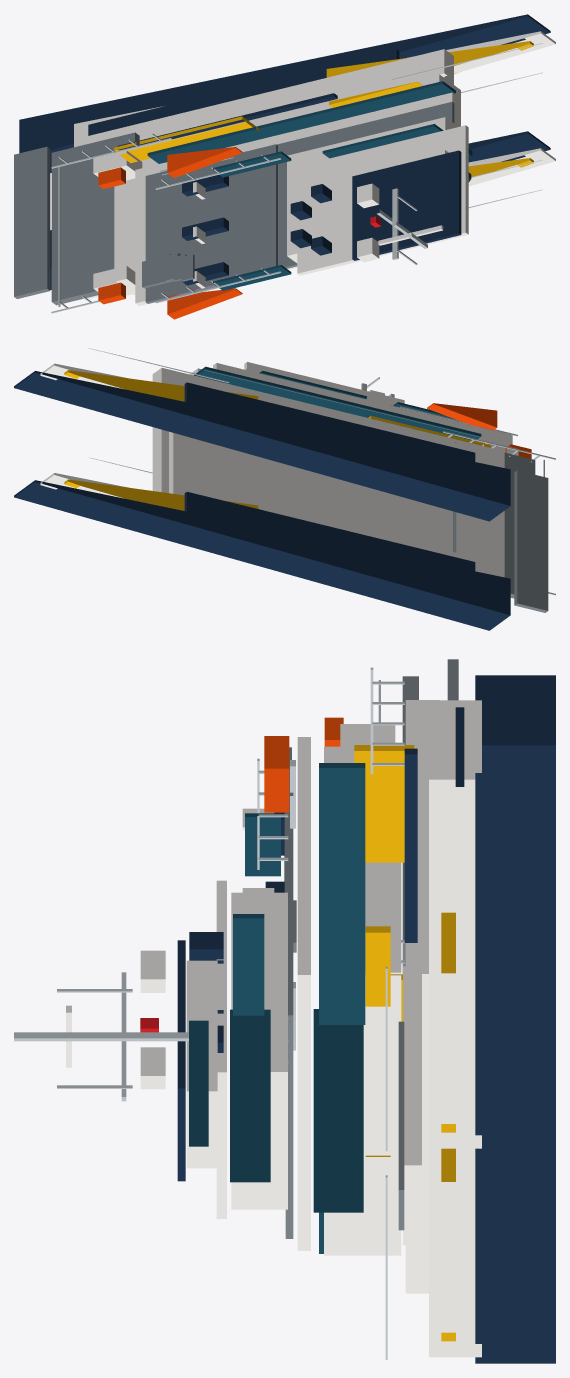
File: boat.gltf
3 views of the same model, one above another, from view 1: azimuth 30°, elevation 25°; view 2: azimuth 150°, elevation 25°; view 3: azimuth 270°, elevation 25° (orthographic). The views are drawn at different scales.
Parts seen in each view (by area): view 1: upper aft open deck, deep individual catamaran hull (×2), aft working deck, bridge roof, hardtop, central bridge deck, stern platform, long navy window band, saloon roof, upper deck floor, main saloon, navy waterline stripe (+18 smaller); view 2: deep individual catamaran hull (×2), central bridge deck, navy waterline stripe (×2), stern platform, long navy window band, gold bow blade (×2), white individual bow shoulder (×2), saloon roof, aft working deck, rescue boat, bridge roof, main saloon (+2 smaller); view 3: deep individual catamaran hull (×2), white individual bow shoulder (×2), main saloon, long navy window band, front windshield, upper deckhouse, saloon roof, central bridge deck, bridge front glass, forward cross deck, large gold flank, upper control cabin (+16 smaller).
Boxes of the visible parts, x1,y1,x2,y2 form: upper aft open deck: (145,144,277,303); deep individual catamaran hull (×2): (19,14,550,289); aft working deck: (51,132,139,305); bridge roof: (297,125,468,275); hardtop: (352,150,461,260); central bridge deck: (77,49,453,298); stern platform: (14,146,50,298); long navy window band: (147,81,455,163); saloon roof: (135,92,455,305); upper deck floor: (196,102,454,290); main saloon: (114,74,460,295); navy waterline stripe: (88,49,399,135); deep individual catamaran hull (×2): (14,371,510,630); central bridge deck: (152,368,504,577); navy waterline stripe (×2): (184,382,475,571); stern platform: (514,470,548,612); long navy window band: (194,366,481,440); gold bow blade (×2): (64,370,258,510); white individual bow shoulder (×2): (40,363,490,574); saloon roof: (213,363,512,446); aft working deck: (453,442,535,598); rescue boat: (427,403,497,430); bridge roof: (244,362,404,404); main saloon: (190,368,501,444); deep individual catamaran hull (×2): (475,675,555,1363); white individual bow shoulder (×2): (429,700,481,1357); main saloon: (324,746,401,1255); long navy window band: (319,763,365,1024); front windshield: (313,1009,363,1212); upper deckhouse: (231,892,287,1209); saloon roof: (297,737,310,1250); central bridge deck: (405,700,439,1293); bridge front glass: (230,1009,270,1182); forward cross deck: (403,966,421,1245); large gold flank: (354,745,414,862); upper control cabin: (186,960,217,1168).
Bounding box in the file's own units: 32.45 × 9.32 × 15.78.
